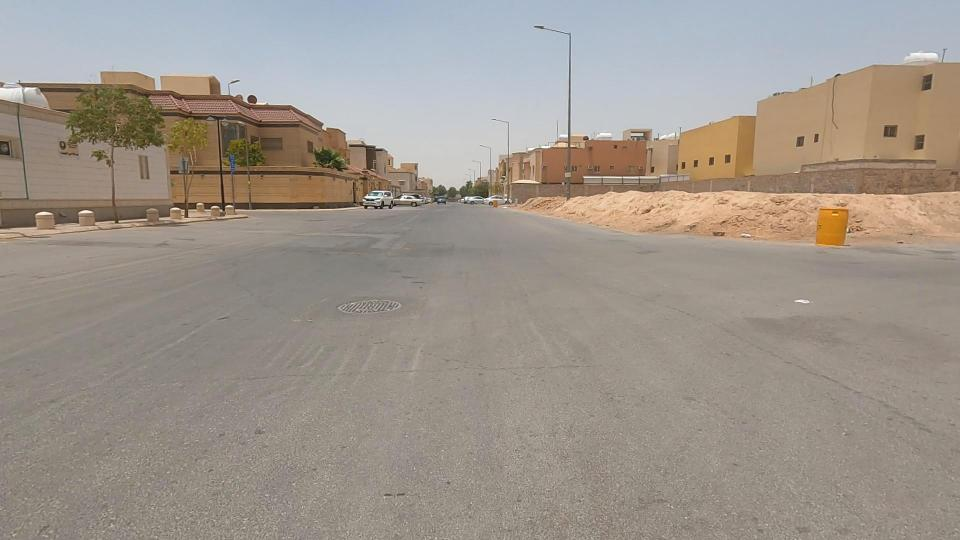SAND_ON_ROAD: (638, 156, 829, 270), (802, 157, 960, 273), (532, 166, 698, 250)
